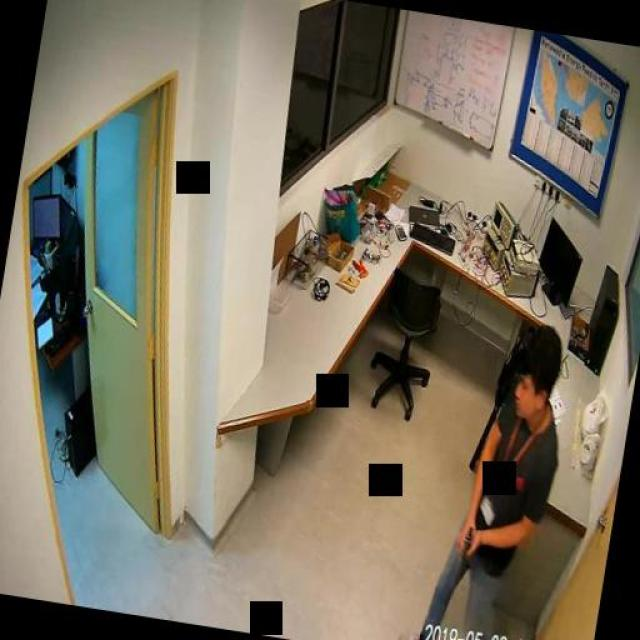gun: (445, 521, 474, 595)
